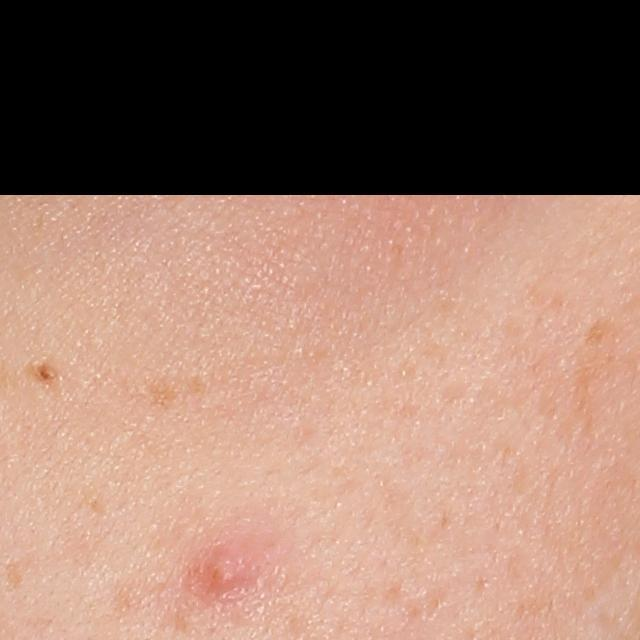melasma: (135, 369, 209, 410), (578, 311, 616, 348)
papule: (188, 540, 254, 595)
